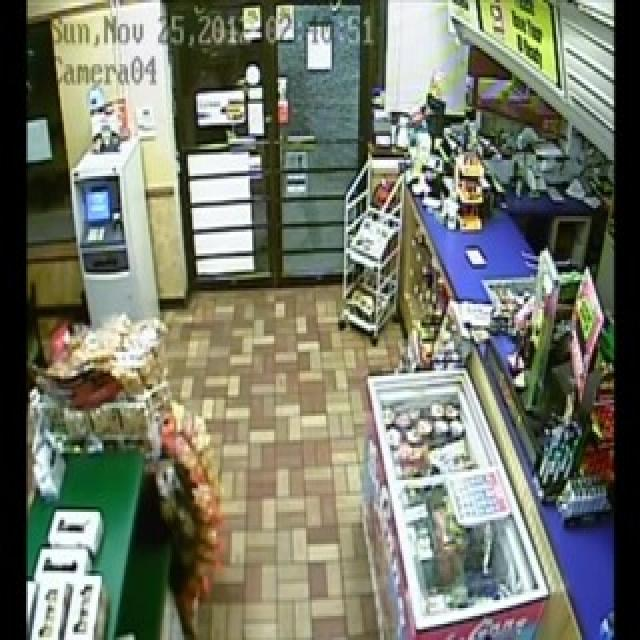burglary: (221, 52, 340, 248)
